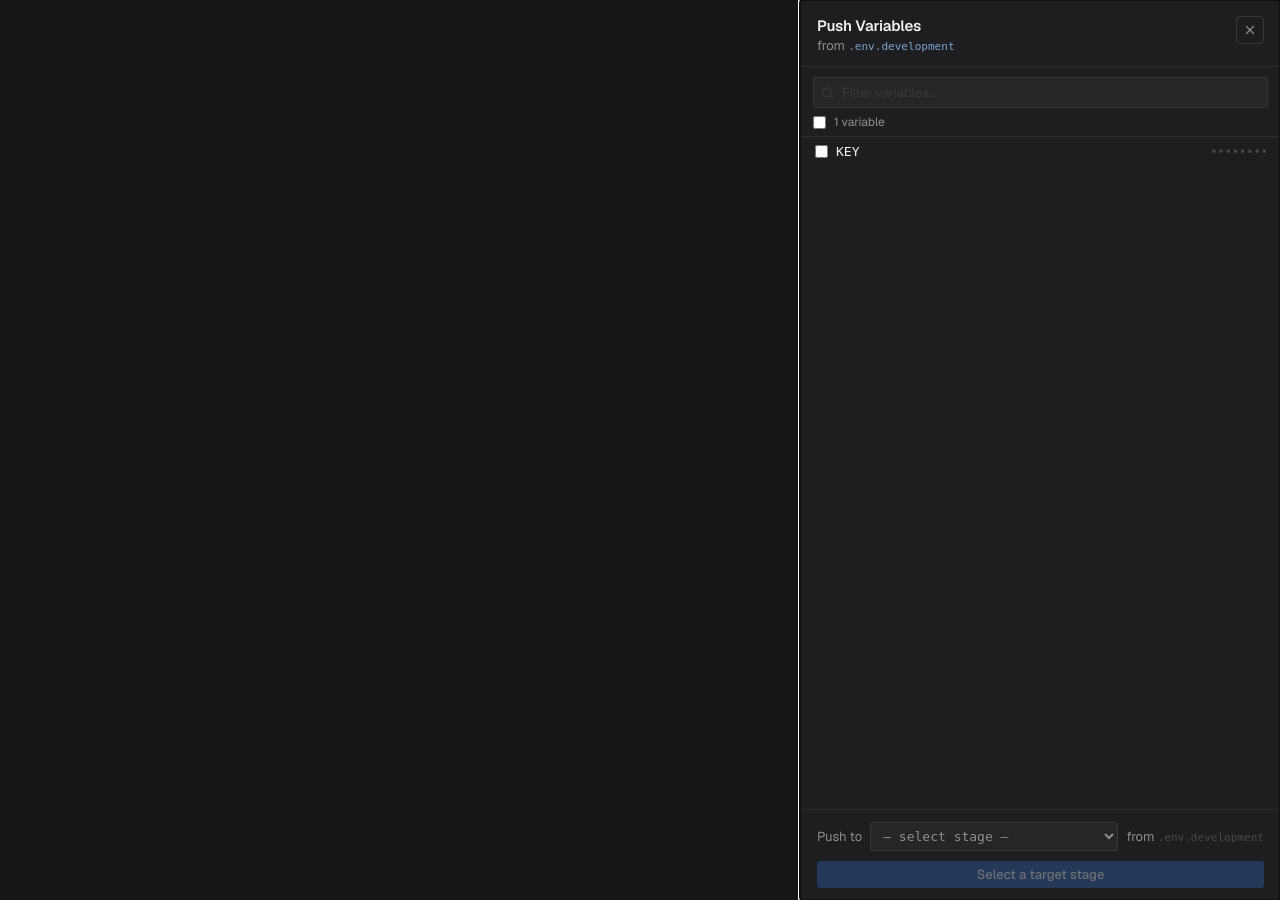
Scenario: PushToStagePanel › Push action › CTA is disabled while pushing
Click the row "KEY ••••••••": (1239, 152) [815,144,1268,159]
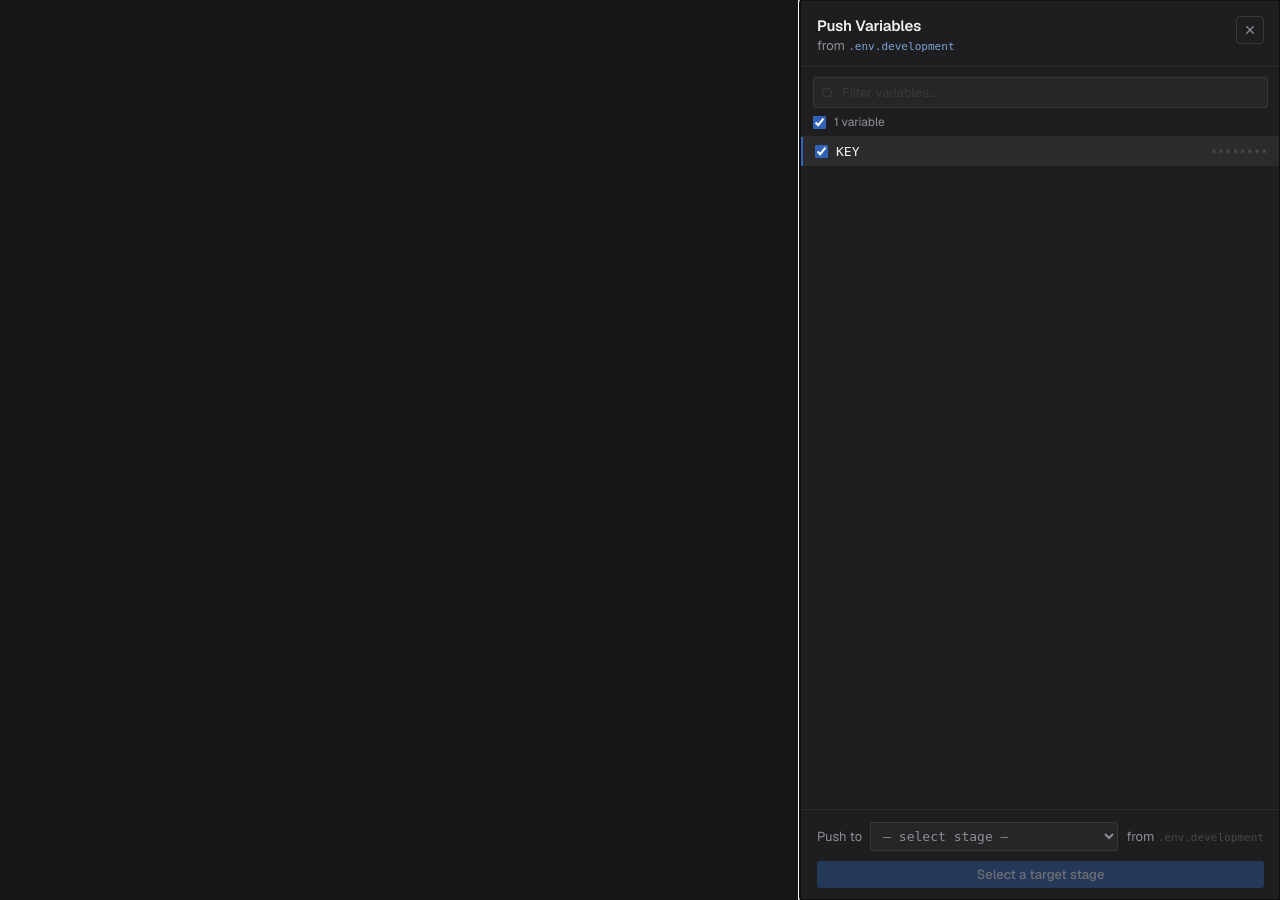
Select ".env.staging (empty)" in the dropdown with test id "stage-selector": (994, 836) [870,822,1118,851]
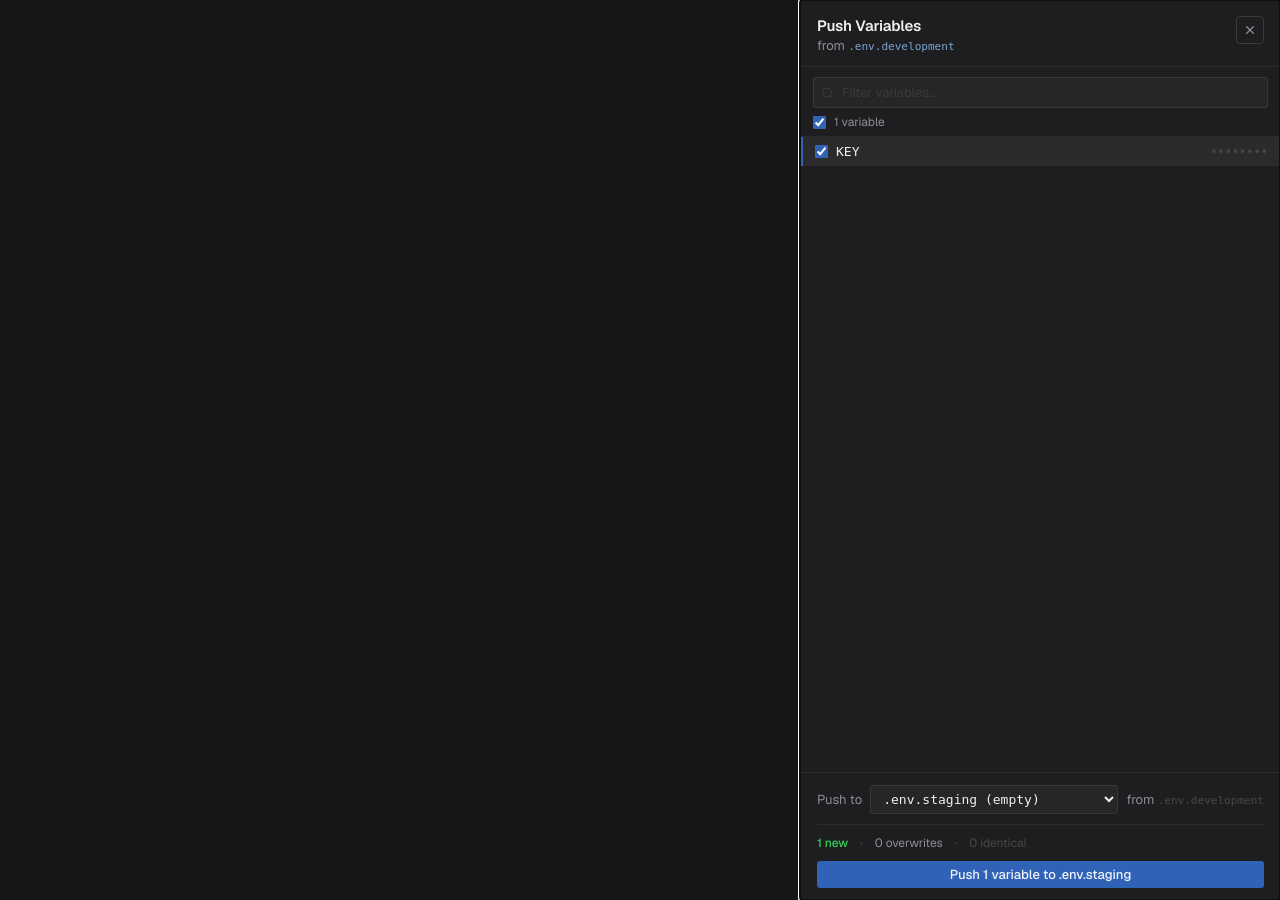
Expected: the button with test id "push-cta-button" is enabled
Click the button with test id "push-cta-button": (1040, 874) [817,861,1264,888]
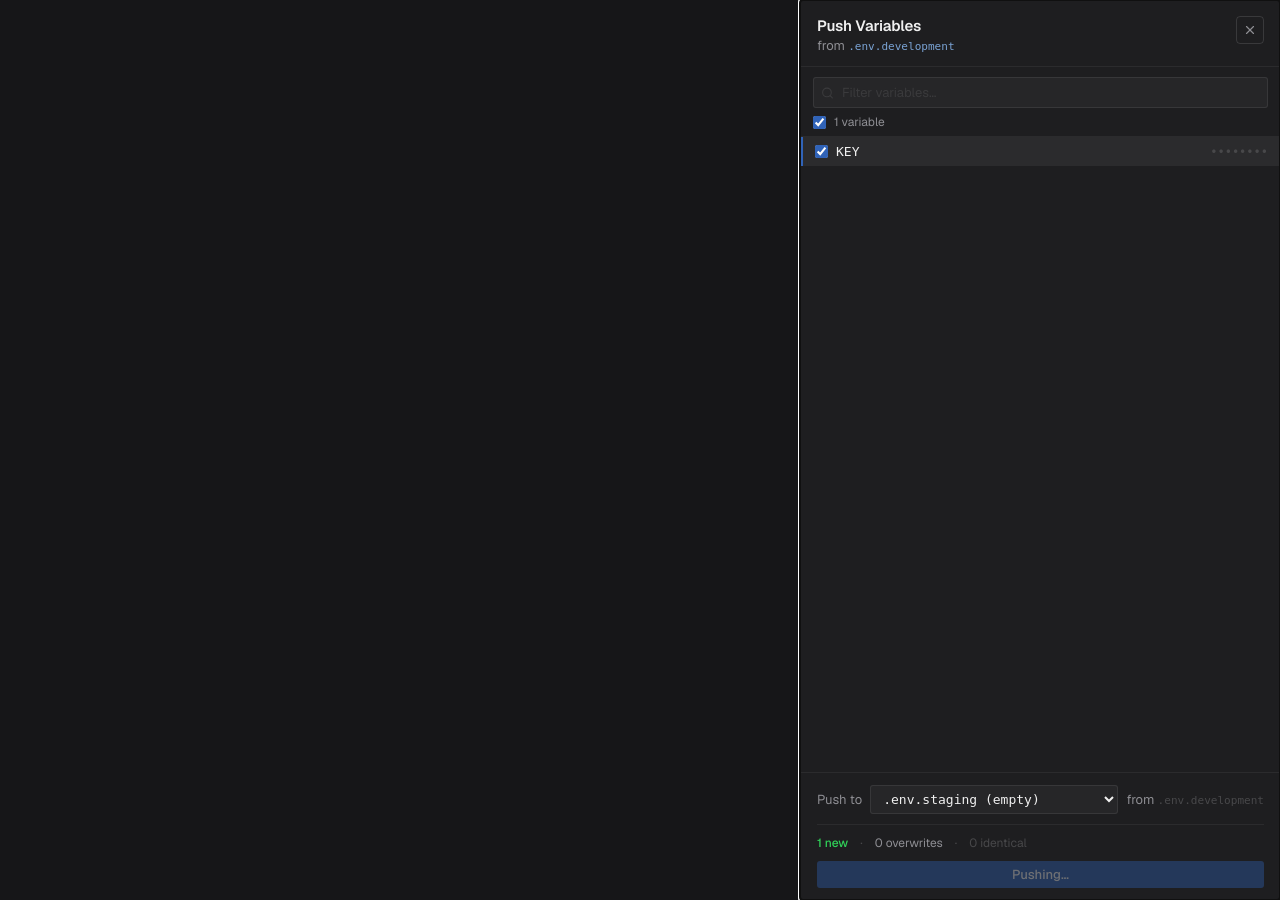
Expected: the button with test id "push-cta-button" is disabled, [817,861,1264,888]
